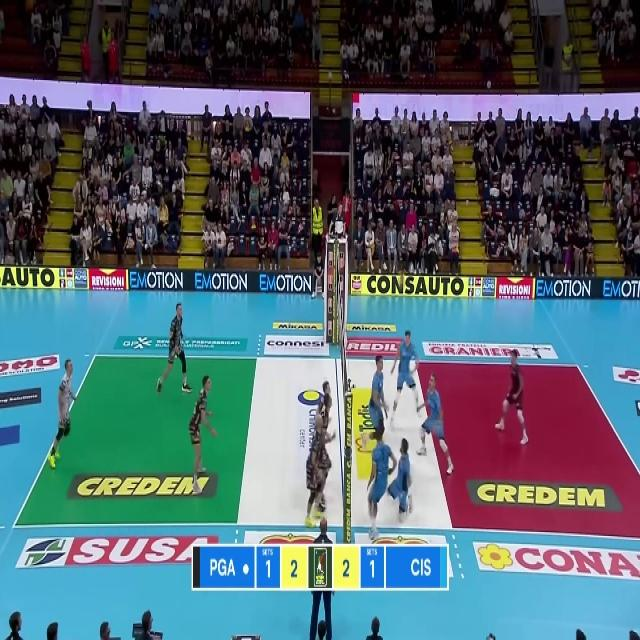volleyball court: (10, 351, 638, 537)
